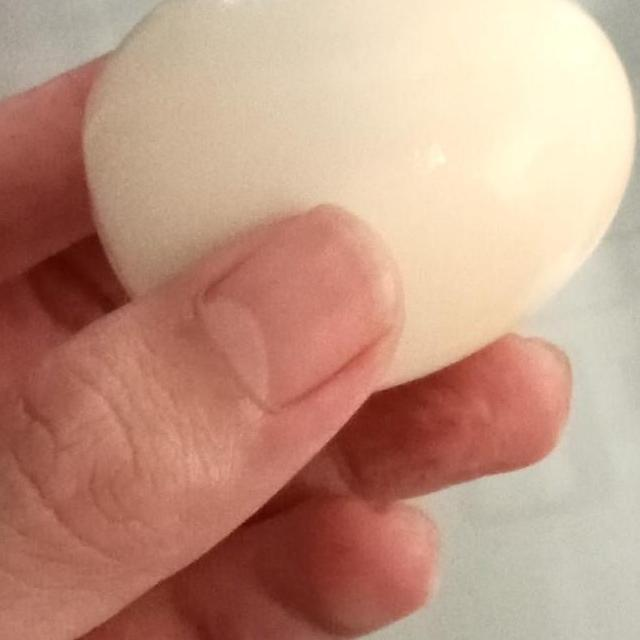trung: (68, 0, 640, 404)
